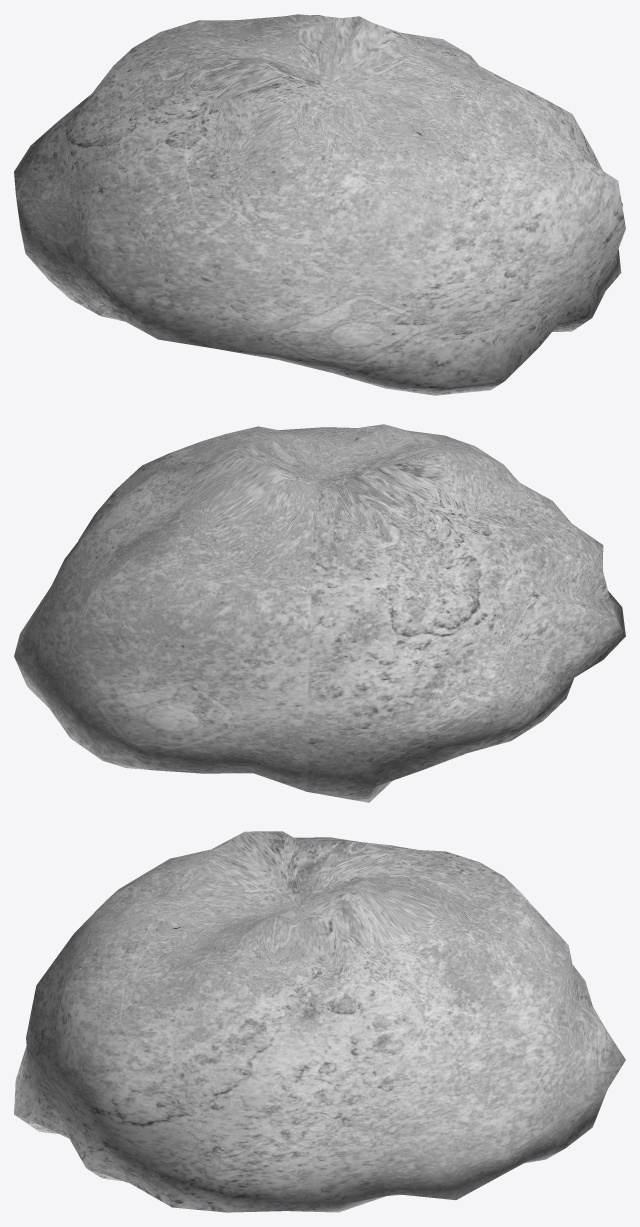
Rendered from Stone.fbx.
The picture shows the model from 3 angles, top to bottom: view 1: azimuth 30°, elevation 25°; view 2: azimuth 150°, elevation 25°; view 3: azimuth 270°, elevation 25°; orthographic projection.
Parts seen in each view (by area): view 1: Sphere; view 2: Sphere; view 3: Sphere.
Part boxes in pixels (x1,y1,x2,y2): Sphere: (14,14,625,395); Sphere: (14,424,625,802); Sphere: (14,831,625,1212).
Size of the model in its own units: 202 by 93.75 by 210.
